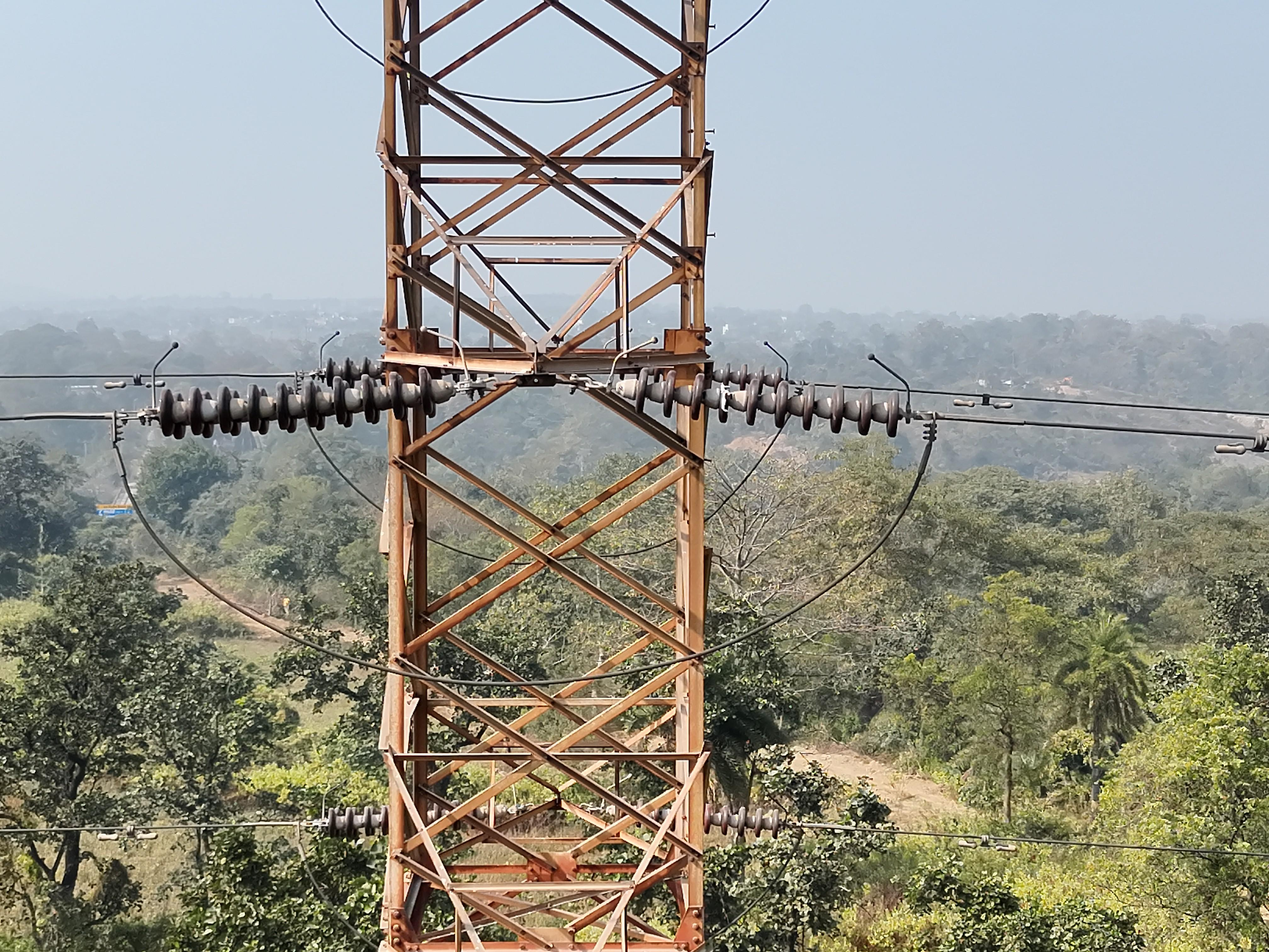broken_insulator: (717, 375, 731, 424)
